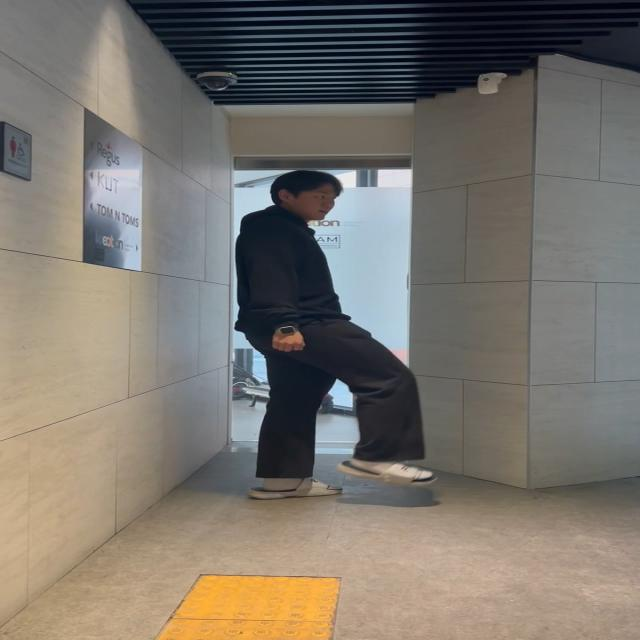leg: (302, 299, 443, 491)
